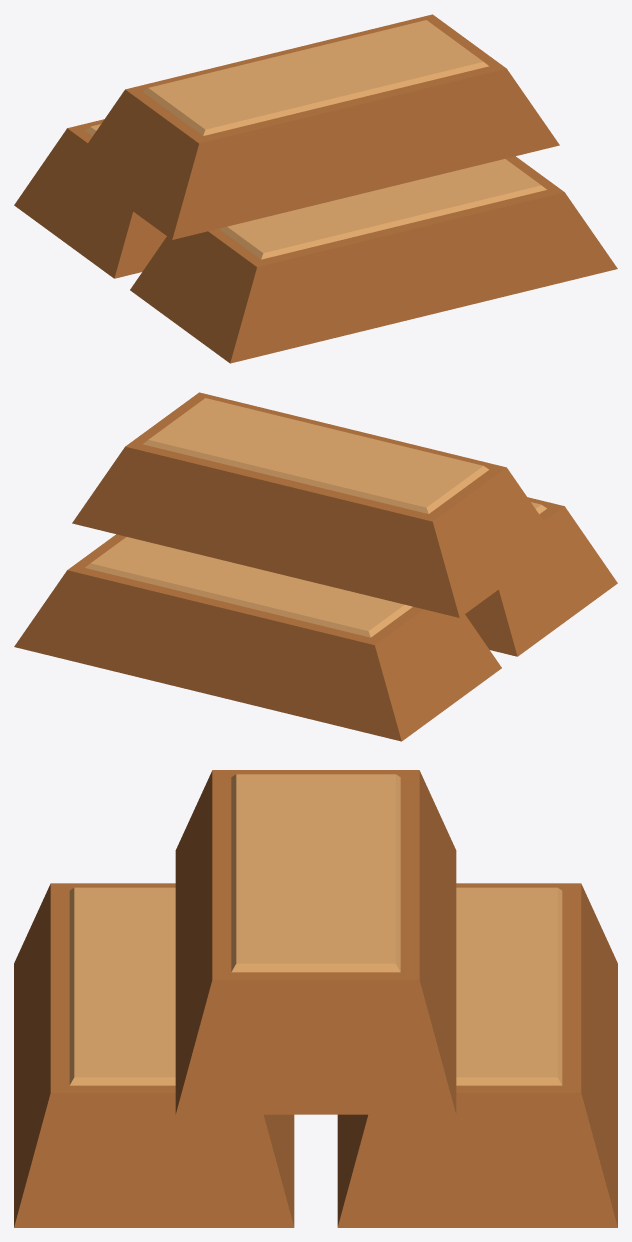
The model's file is drop_bar_bronze.glb.
The picture shows the model from 3 angles, top to bottom: view 1: azimuth 30°, elevation 25°; view 2: azimuth 150°, elevation 25°; view 3: azimuth 270°, elevation 25°; orthographic projection. The views are drawn at different scales.
Parts seen in each view (by area): view 1: drop_bar_bronze; view 2: drop_bar_bronze; view 3: drop_bar_bronze.
Boxes of the visible parts, x1,y1,x2,y2 form: drop_bar_bronze: (14, 14, 617, 363); drop_bar_bronze: (14, 392, 617, 741); drop_bar_bronze: (14, 770, 617, 1227).
Bounding box in the file's own units: 0.29 × 0.116 × 0.28.
